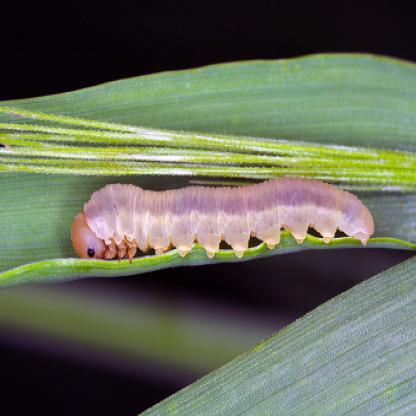sawfly: (66, 160, 375, 268)
